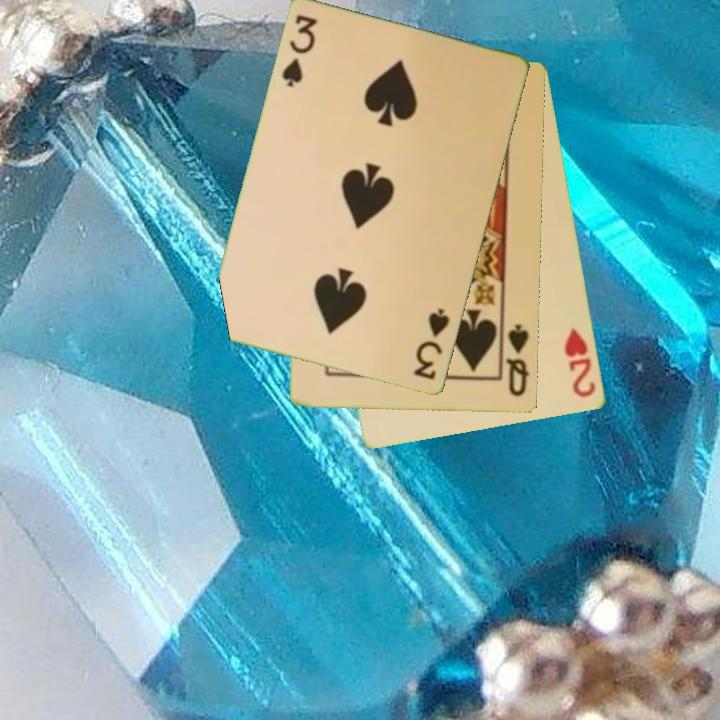2h: (561, 324, 599, 401)
3s: (278, 11, 321, 91), (410, 305, 453, 383)
Qs: (503, 321, 532, 400)
